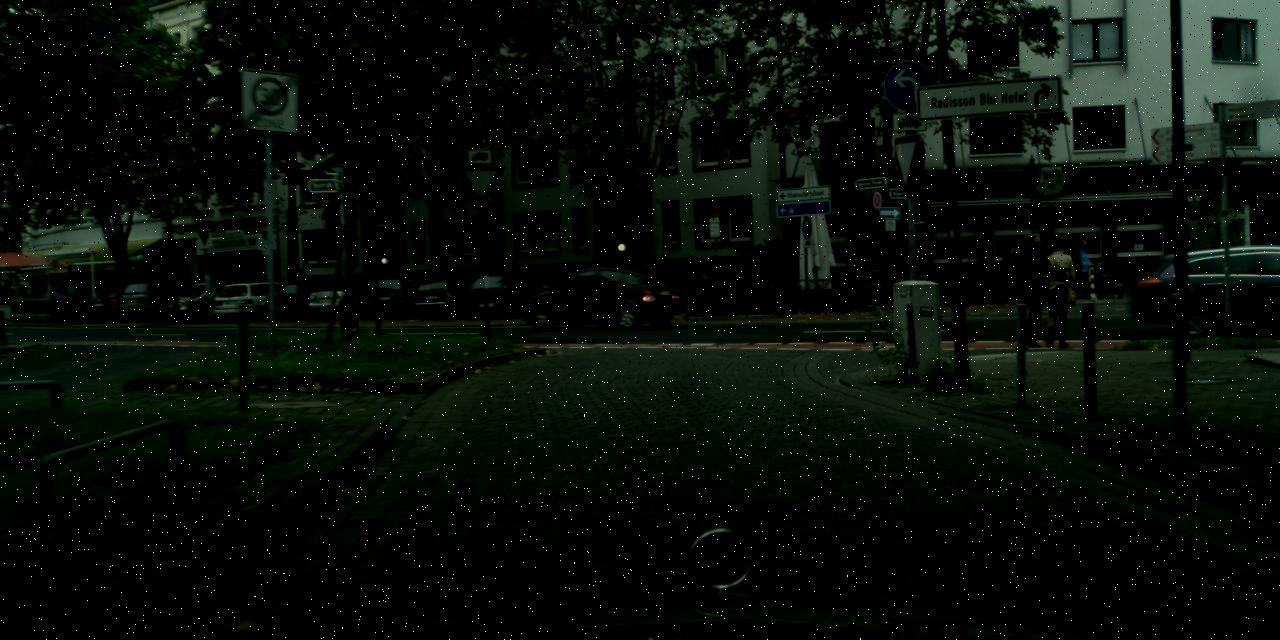ped: (1009, 232, 1056, 348), (1035, 238, 1079, 348), (1062, 234, 1088, 297), (1050, 235, 1073, 292), (1071, 239, 1092, 290), (1001, 249, 1020, 296), (294, 268, 308, 303), (109, 276, 122, 309)
